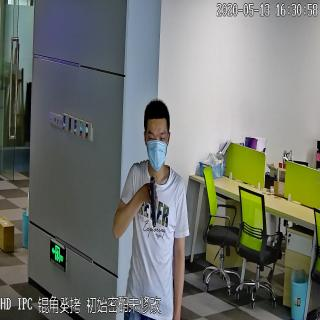gun: (148, 172, 160, 232)
